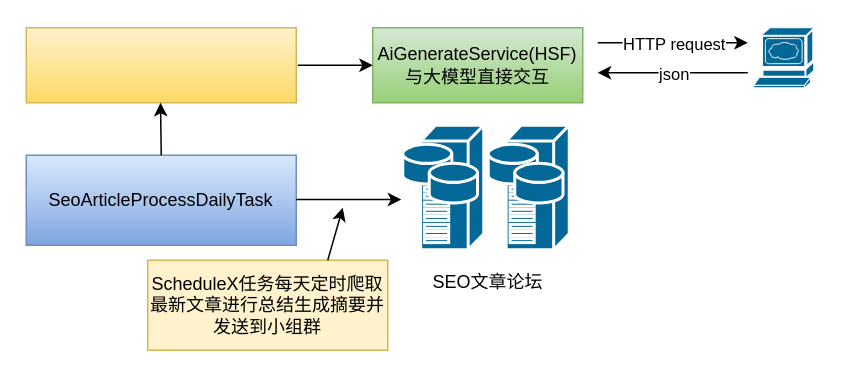
Image size: 848x377. Some labels were removed from this diagram. Here are the shapes that lost their labels. From the top down, the centre of each, then its label:
At pixel 160 64: "SeoArticleProcessService(HSF) 对SEO文章处理，总结".
At pixel 783 57: "OpenAI ChatGPT".
